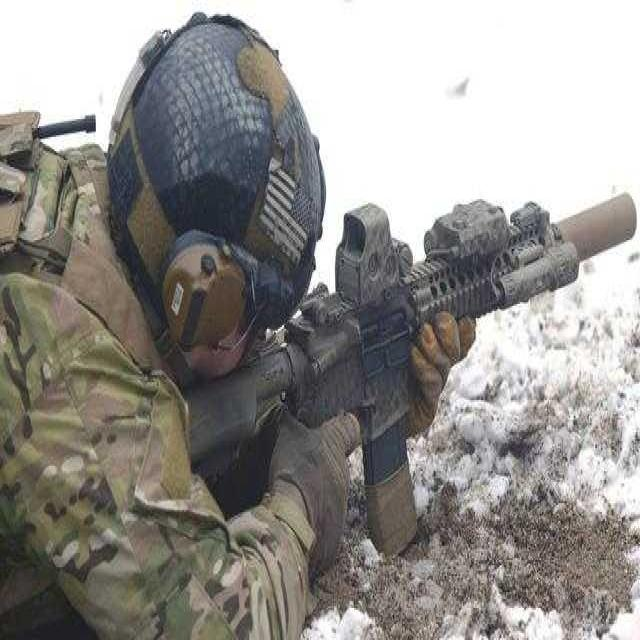heavyweapon: (176, 147, 636, 572)
